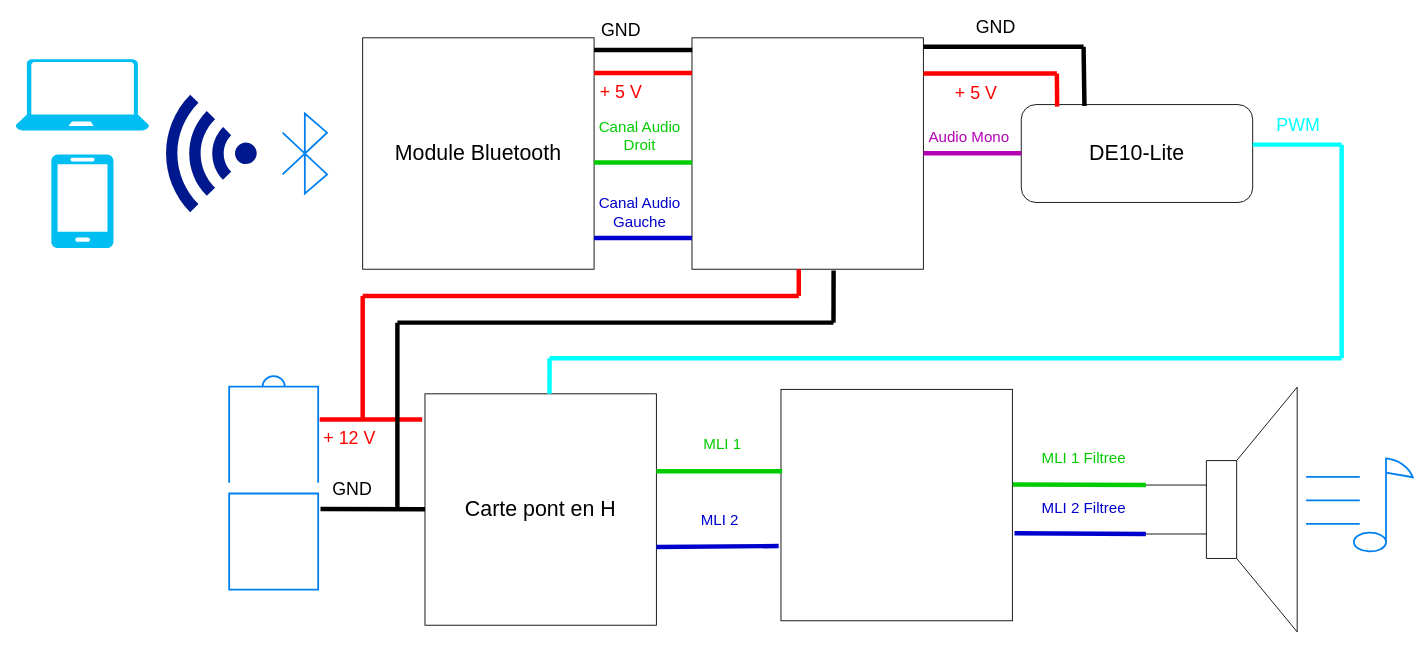
The diagram is 1428 pixels wide and 648 high, and some of its shapes have lost their labels. The shapes that lost their labels are listed below. From the top down, each one's centre as x and y in pixels, then its label:
At (x=807, y=153): "Carte de conditionement".
At (x=896, y=504): "Carte Filtrage".
